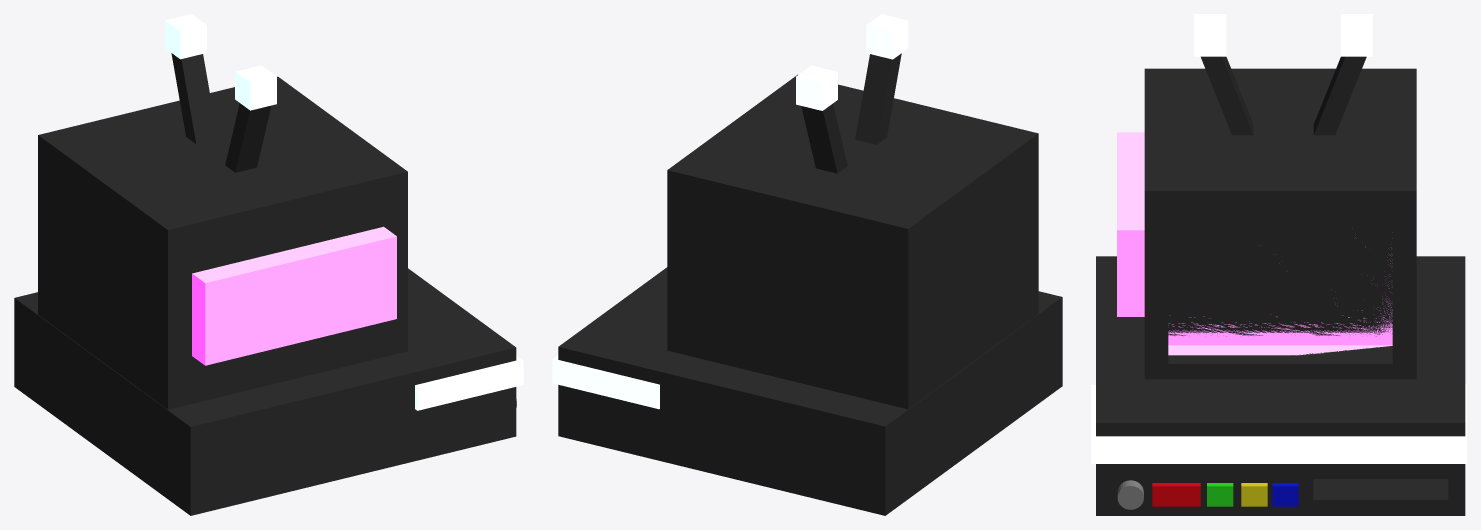
Rendered from VCR6.fbx.
The picture shows the model from 3 angles, left to right: view 1: azimuth 30°, elevation 25°; view 2: azimuth 150°, elevation 25°; view 3: azimuth 270°, elevation 25°; orthographic projection. The views are drawn at different scales.
Parts seen in each view (by area): view 1: Cube.009, Cube, Cube.010, Cube.002, Cube.014, Cube.013, Cube.015, Cube.016; view 2: Cube.009, Cube, Cube.013, Cube.003, Cube.014, Cube.015, Cube.016; view 3: Cube.009, Cube, Cube.001, Cube.012, Cube.010, Cube.014, Cube.013, Cube.015, Cube.016, Cube.004, Cylinder, Cube.005 (+2 smaller).
Boxes of the visible parts, x1,y1,x2,y2 form: Cube.009: [38, 76, 407, 409]; Cube: [14, 268, 516, 515]; Cube.010: [192, 226, 396, 365]; Cube.002: [415, 360, 523, 410]; Cube.014: [171, 53, 217, 144]; Cube.013: [225, 103, 271, 172]; Cube.015: [235, 65, 276, 110]; Cube.016: [165, 14, 206, 59]; Cube.009: [667, 74, 1038, 409]; Cube: [558, 267, 1062, 515]; Cube.013: [855, 53, 901, 144]; Cube.003: [553, 355, 659, 409]; Cube.014: [801, 103, 847, 173]; Cube.015: [866, 14, 908, 59]; Cube.016: [796, 65, 837, 110]; Cube.009: [1144, 68, 1416, 379]; Cube: [1096, 256, 1465, 515]; Cube.001: [1094, 434, 1466, 463]; Cube.012: [1168, 255, 1392, 355]; Cube.010: [1117, 132, 1144, 316]; Cube.014: [1313, 56, 1366, 135]; Cube.013: [1201, 56, 1253, 135]; Cube.015: [1194, 14, 1226, 56]; Cube.016: [1341, 14, 1372, 56]; Cube.004: [1152, 483, 1200, 506]; Cylinder: [1117, 480, 1143, 509]; Cube.005: [1207, 483, 1233, 506].
Bounding box in the file's own units: 1934 × 2046 × 1787.
